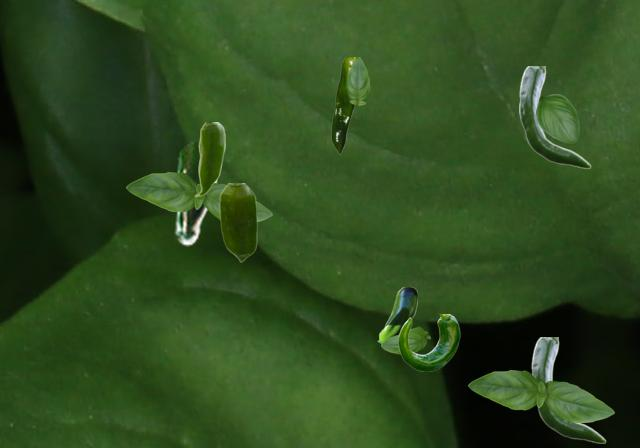green_chili: (531, 337, 605, 442), (519, 66, 590, 167), (172, 140, 221, 245), (398, 314, 459, 370), (219, 183, 256, 261), (331, 57, 357, 153), (194, 122, 224, 196), (377, 287, 416, 343)
